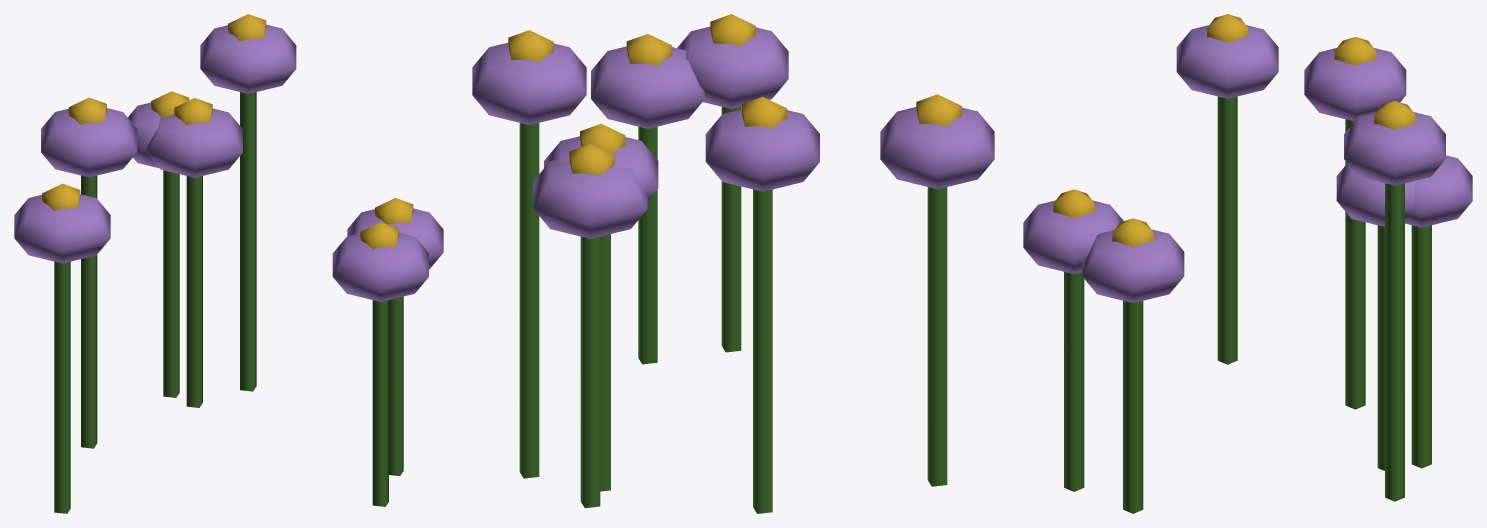
Rendered from flores_lila.glb.
The picture shows the model from 3 angles, left to right: view 1: azimuth 30°, elevation 25°; view 2: azimuth 150°, elevation 25°; view 3: azimuth 270°, elevation 25°; orthographic projection. The views are drawn at different scales.
Visible parts, largest first — view 1: flores_lila_Malla; view 2: flores_lila_Malla; view 3: flores_lila_Malla.
Boxes of the visible parts, x1,y1,x2,y2 form: flores_lila_Malla: (14, 14, 443, 513); flores_lila_Malla: (472, 14, 994, 513); flores_lila_Malla: (1023, 14, 1472, 513).
Bounding box in the file's own units: 0.5597 × 0.5205 × 0.5347.
